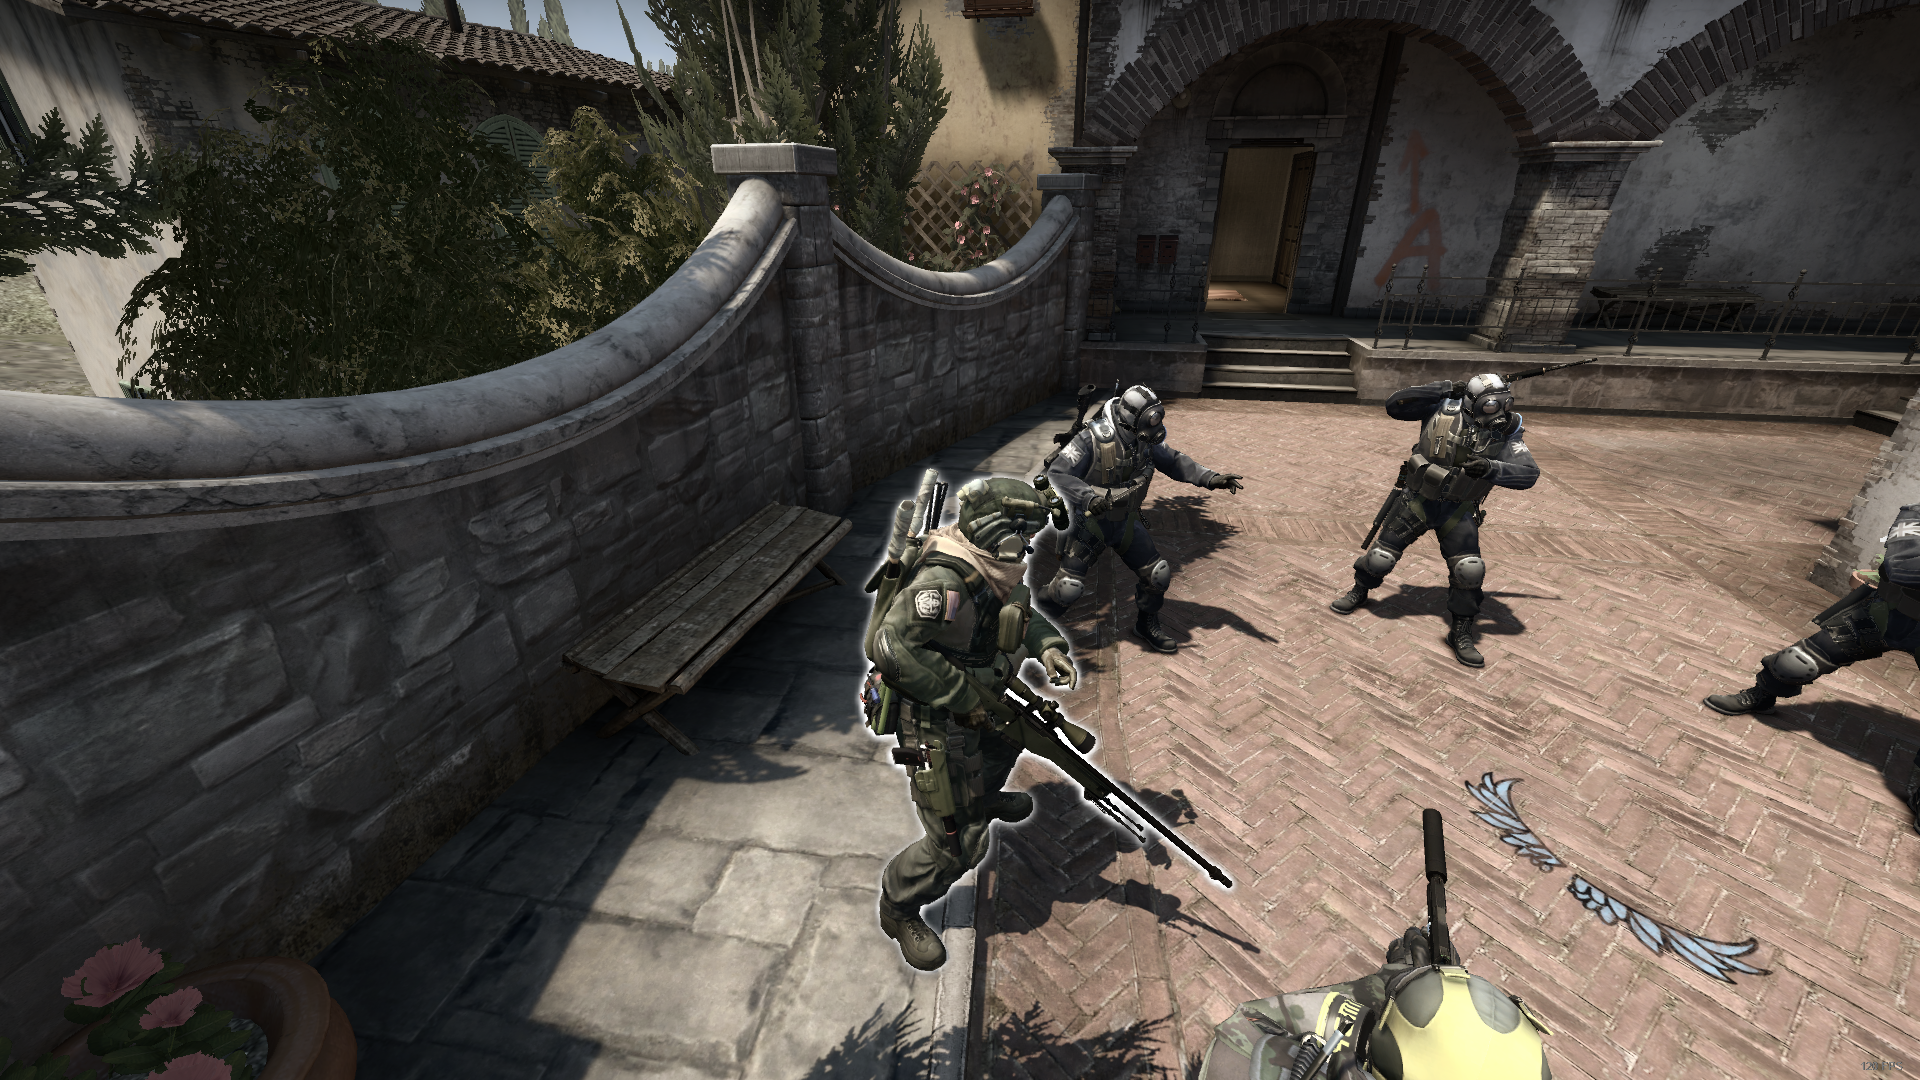ct: (1336, 363, 1547, 673), (1025, 369, 1246, 661)
